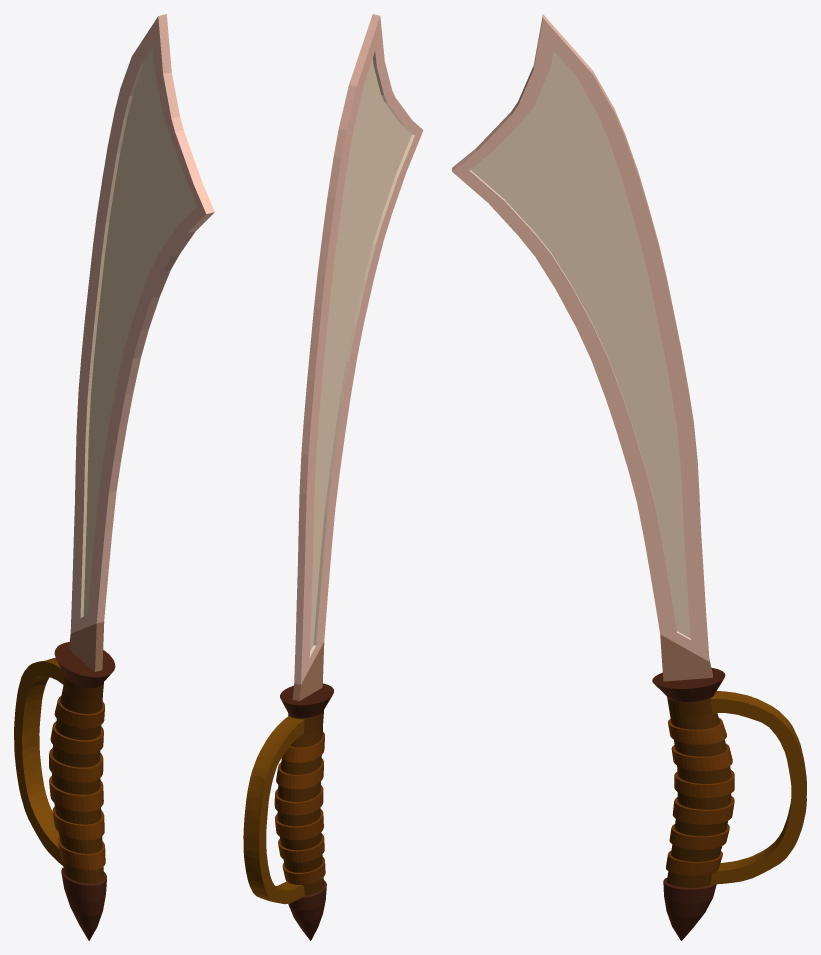
The model's file is Piraten Schwert.fbx.
3 views of the same model, side by side, from view 1: azimuth 30°, elevation 25°; view 2: azimuth 150°, elevation 25°; view 3: azimuth 270°, elevation 25° (orthographic). The views are drawn at different scales.
Visible parts, largest first — view 1: Schwert; view 2: Schwert; view 3: Schwert.
Part boxes in pixels (x1,y1,x2,y2): Schwert: [14, 14, 214, 940]; Schwert: [243, 14, 423, 940]; Schwert: [452, 14, 806, 940].
Bounding box in the file's own units: 238 × 4755 × 1654.
